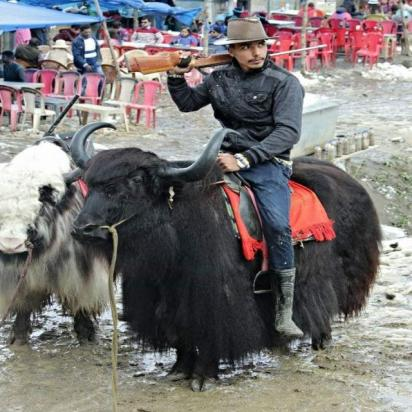Gun: (122, 42, 329, 77)
